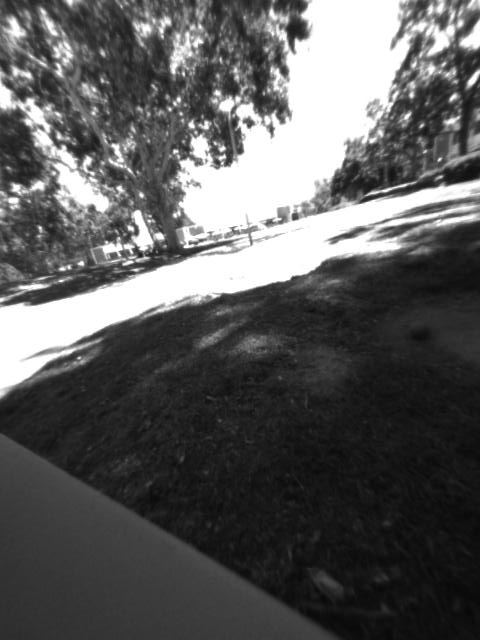dogtoy: (401, 311, 440, 345)
